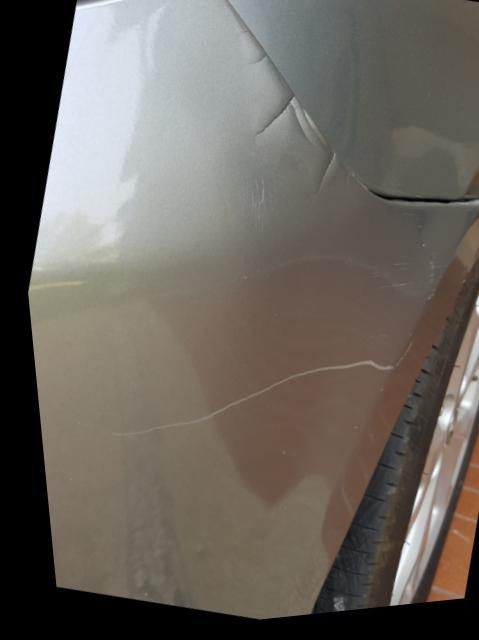scratch: (101, 345, 405, 440)
